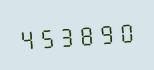eight: (78, 19, 97, 48)
five: (37, 22, 56, 51)
four: (17, 24, 36, 52)
nine: (98, 18, 117, 47)
three: (58, 21, 77, 49)
zero: (118, 17, 137, 45)
